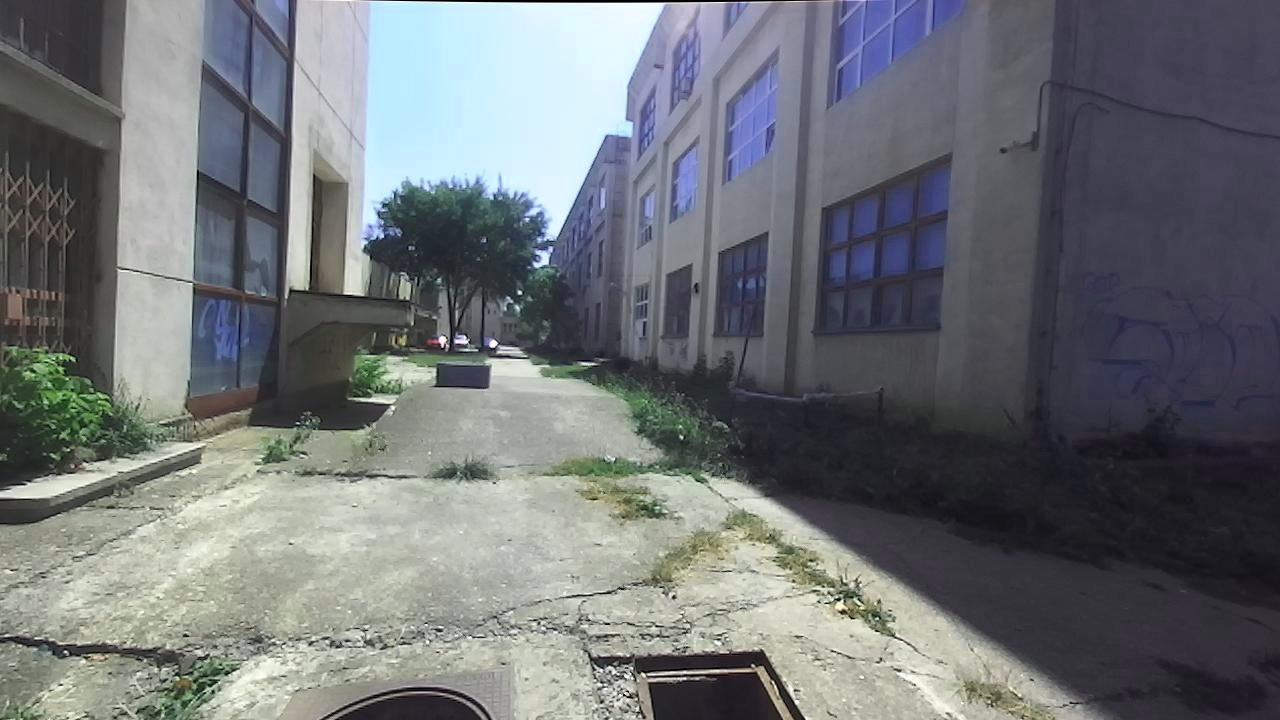drain: (632, 641, 805, 719), (313, 679, 509, 719)
